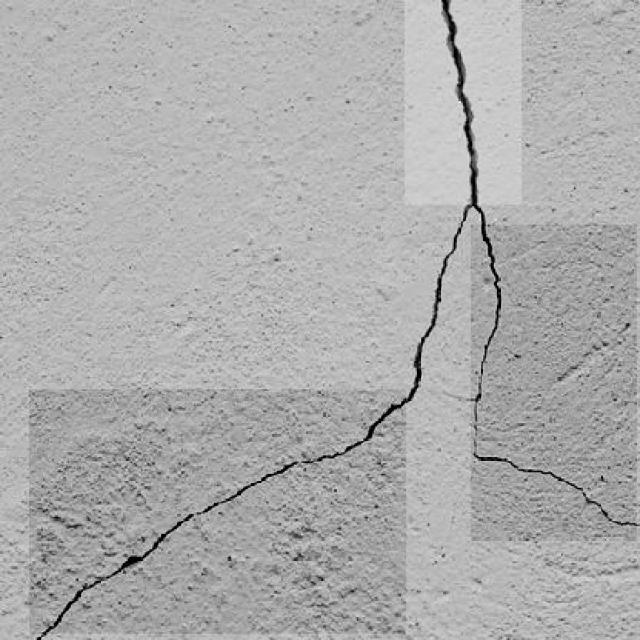Crack: (62, 423, 428, 631), (497, 336, 640, 539), (398, 0, 532, 203)
